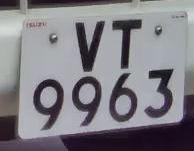3: (139, 65, 181, 124)
6: (103, 68, 145, 126)
9: (29, 75, 69, 133), (68, 72, 104, 128)
T: (104, 9, 150, 75)
V: (66, 14, 110, 75)
